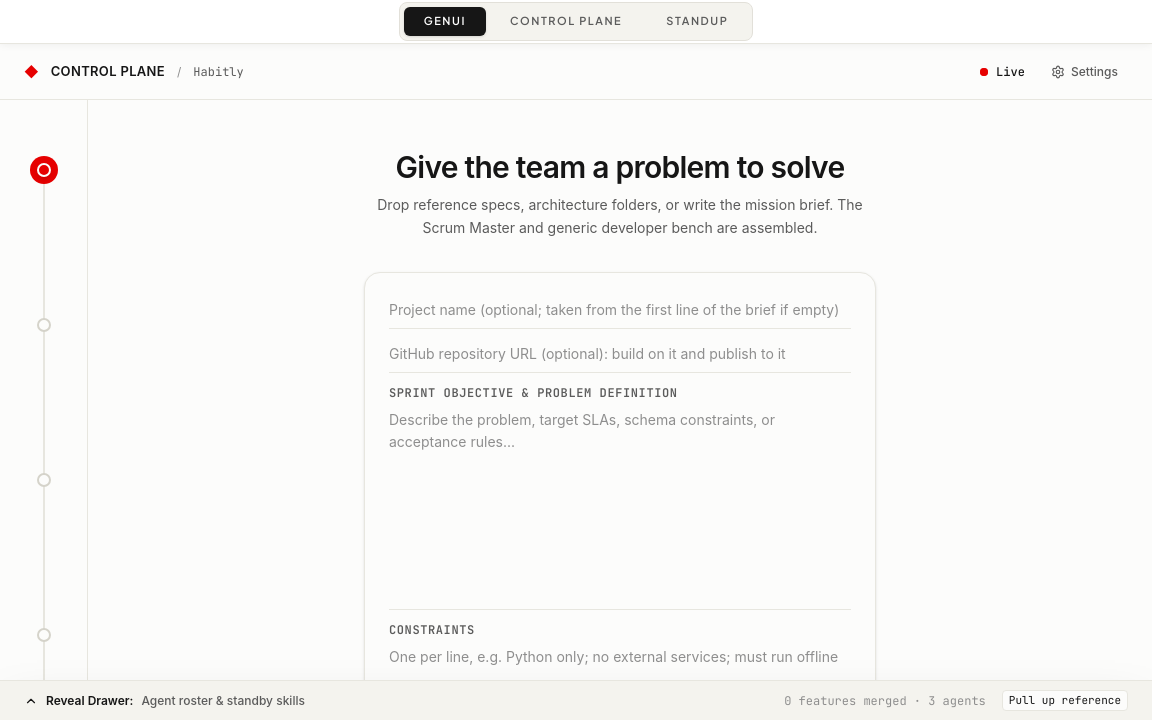
it: the control plane with a real team › has no demo loop, and the debate button asks you what to say instead of sending canned text
Click the tab "Control Plane": (566, 22) [490, 7, 642, 36]
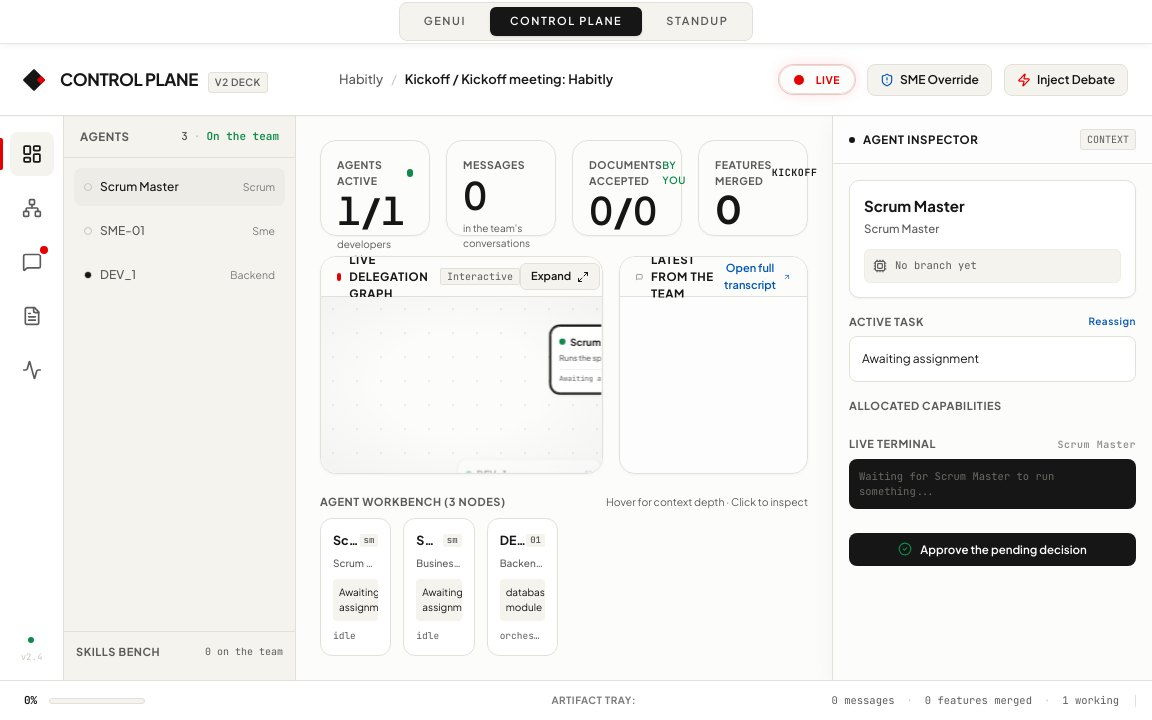
Check: the button titled "Inject an architectural challenge into the active meet" is shown
Click the button titled "Inject an architectural challenge into the active meet": (1066, 80) [1004, 64, 1128, 96]
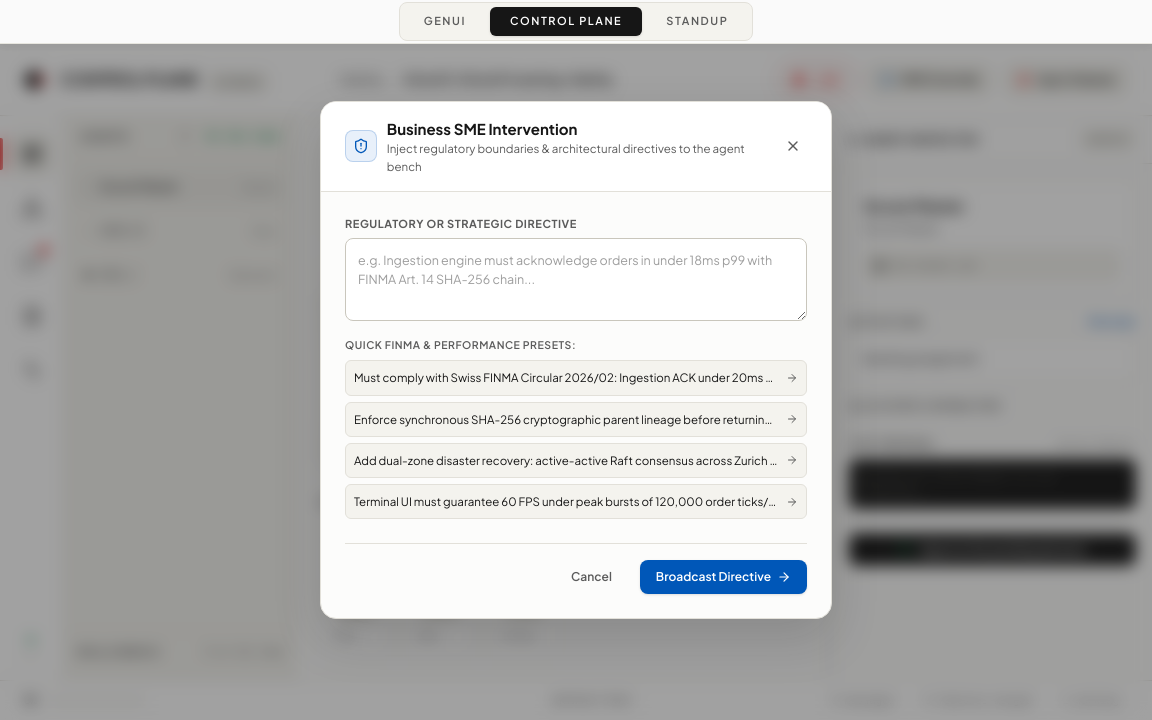
Check: the heading "Business SME Intervention" is shown, box [387, 119, 578, 138]
